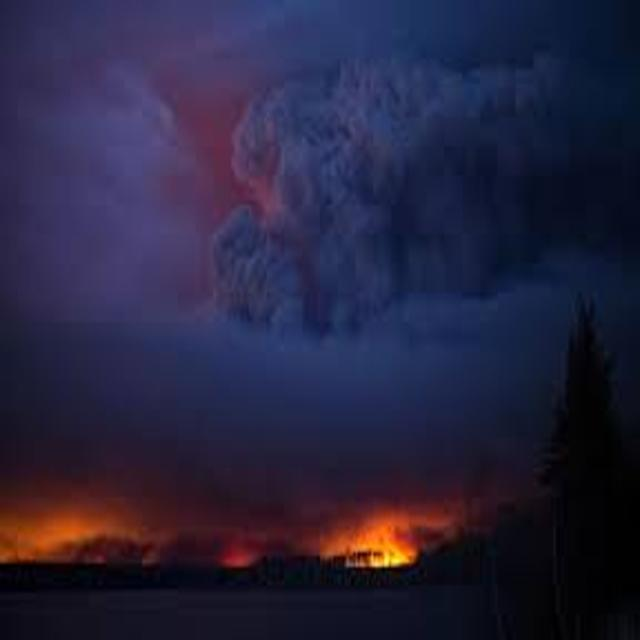Fire: (1, 492, 480, 580)
Smoke: (209, 3, 640, 334), (2, 318, 548, 482), (2, 0, 211, 317)
